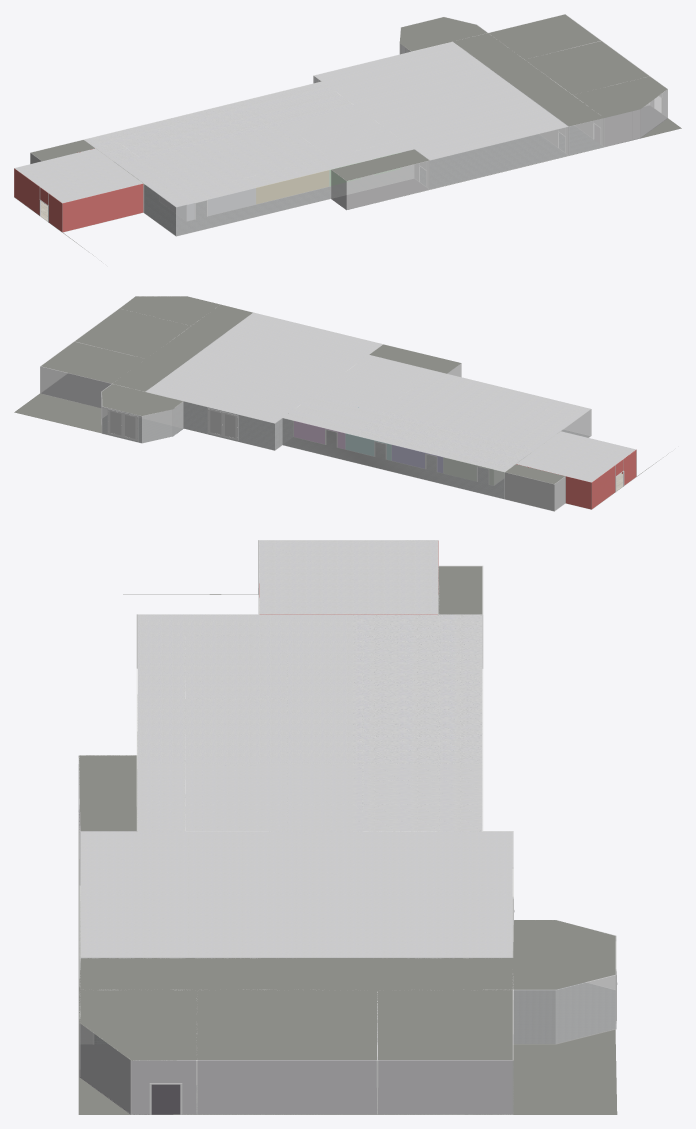
File: Office 1 .fbx
3 views of the same model, one above another, from view 1: azimuth 30°, elevation 25°; view 2: azimuth 150°, elevation 25°; view 3: azimuth 270°, elevation 25° (orthographic). The views are drawn at different scales.
Visible parts, largest first — view 1: SnarkTank-Office; view 2: SnarkTank-Office; view 3: SnarkTank-Office.
Part boxes in pixels (x1,y1,x2,y2): SnarkTank-Office: (14,14,681,261); SnarkTank-Office: (14,296,668,511); SnarkTank-Office: (78,540,617,1114).
Bounding box in the file's own units: 6635 × 323 × 2900.
